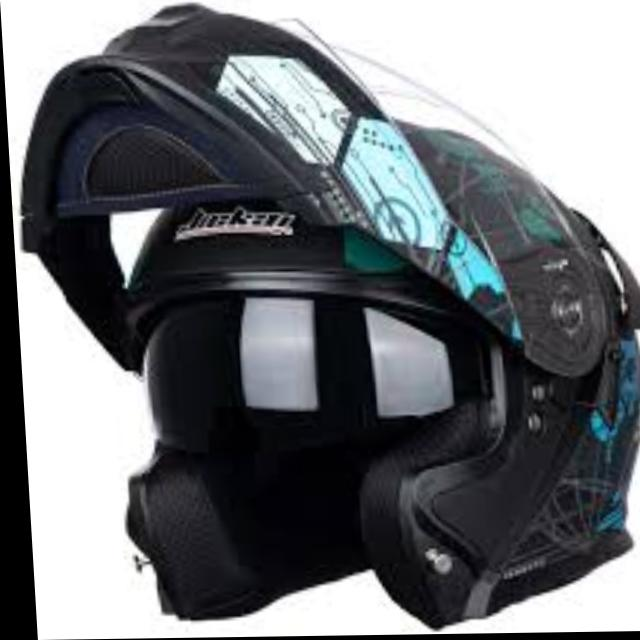motorcycle-helmets: (22, 6, 640, 625)
